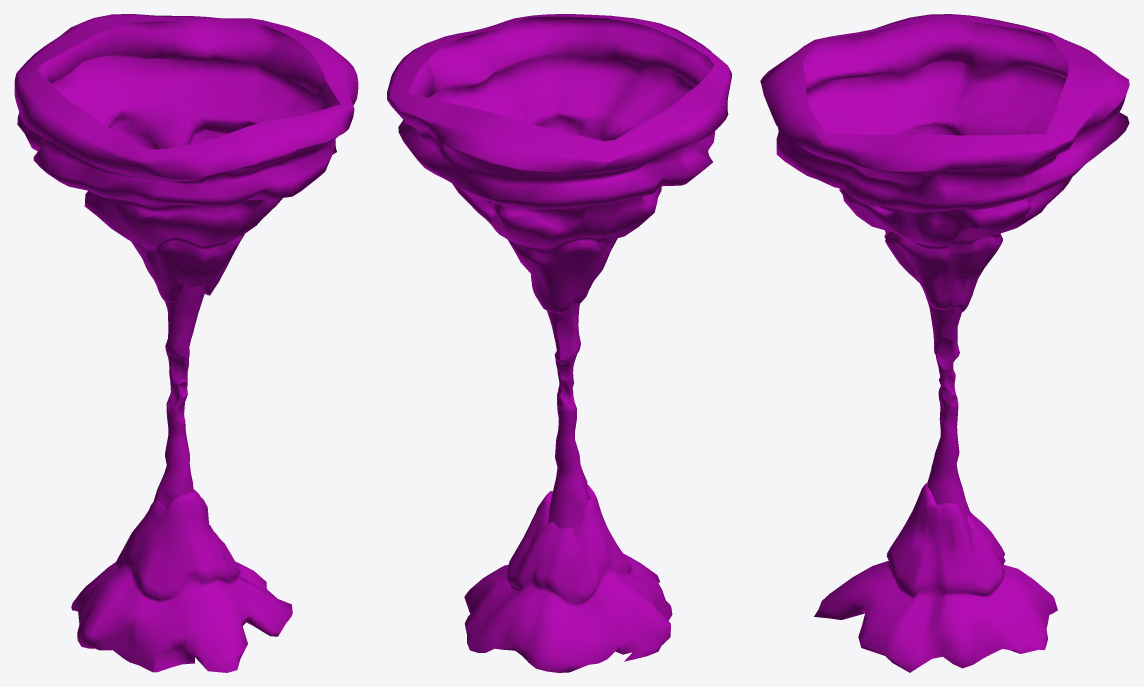
Rendered from Speleothem.fbx.
The picture shows the model from 3 angles, left to right: view 1: azimuth 30°, elevation 25°; view 2: azimuth 150°, elevation 25°; view 3: azimuth 270°, elevation 25°; orthographic projection.
Parts seen in each view (by area): view 1: Cave_Wall_Pillar, Cave_Wall_Pillar1, Stalactite_Collumn, Stalactite_Collumn_Geode; view 2: Cave_Wall_Pillar, Cave_Wall_Pillar1, Stalactite_Collumn, Stalactite_Collumn_Geode; view 3: Cave_Wall_Pillar, Cave_Wall_Pillar1, Stalactite_Collumn, Stalactite_Collumn_Geode.
Boxes of the visible parts, left/top/right/bottom form: Cave_Wall_Pillar: left=14, top=14, right=358, bottom=302; Cave_Wall_Pillar1: left=71, top=489, right=292, bottom=672; Stalactite_Collumn: left=153, top=284, right=204, bottom=507; Stalactite_Collumn_Geode: left=168, top=334, right=187, bottom=423; Cave_Wall_Pillar: left=387, top=14, right=731, bottom=313; Cave_Wall_Pillar1: left=464, top=484, right=672, bottom=672; Stalactite_Collumn: left=547, top=303, right=588, bottom=528; Stalactite_Collumn_Geode: left=556, top=314, right=574, bottom=409; Cave_Wall_Pillar: left=760, top=14, right=1129, bottom=312; Cave_Wall_Pillar1: left=814, top=482, right=1057, bottom=672; Stalactite_Collumn: left=925, top=294, right=970, bottom=520; Stalactite_Collumn_Geode: left=937, top=337, right=958, bottom=423.
Size of the model in its own units: 145 by 250 by 150.
